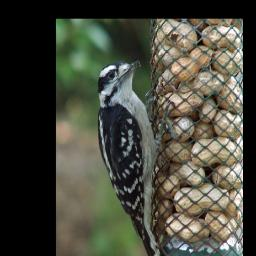Woodpecker: (87, 57, 177, 256)
